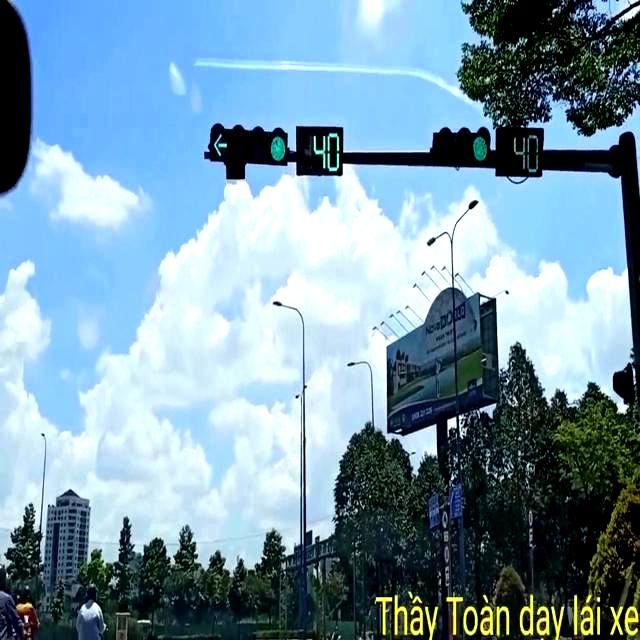Biển phụ: (526, 525, 533, 546), (444, 564, 450, 588)
Chỉ hướng đường: (446, 484, 465, 520)
Cấm xe máy: (440, 504, 448, 527)
Giới hạn tốc độ: 60Km/h: (440, 542, 451, 562)
Khác: (524, 502, 534, 528)
Làn đường cho từng xe: (424, 488, 440, 528)
